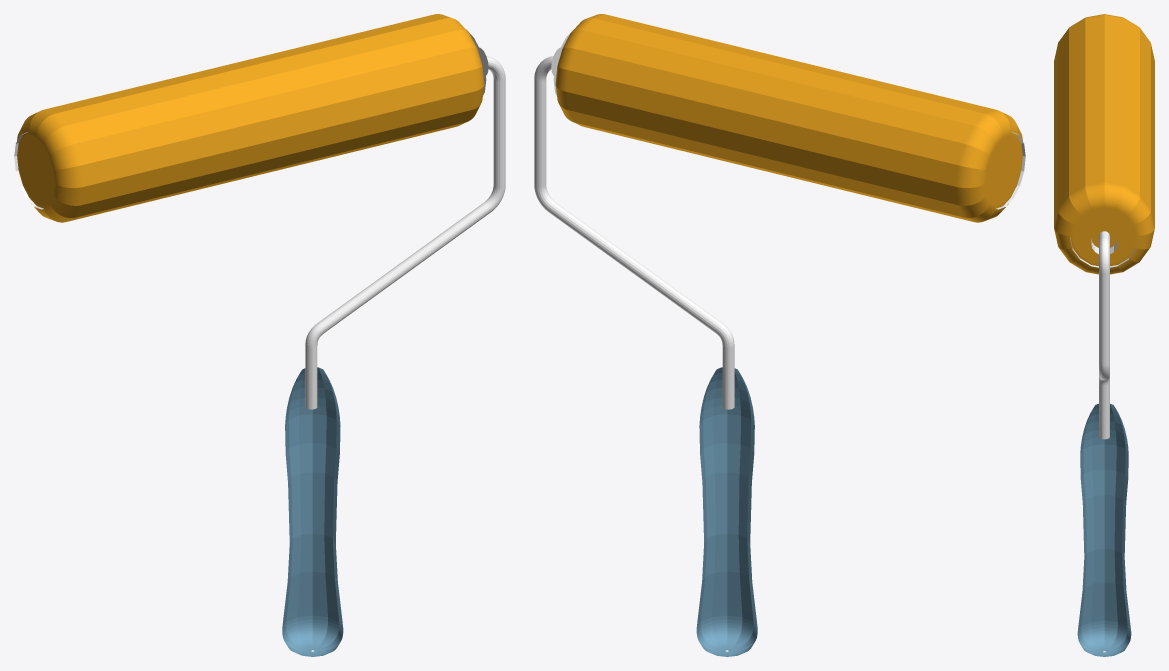
The model's file is d6395dfa-9569-4535-b3d1-4ee557bd3c94.glb.
3 renders of one model, left to right at view 1: azimuth 30°, elevation 25°; view 2: azimuth 150°, elevation 25°; view 3: azimuth 270°, elevation 25°, orthographic. The views are drawn at different scales.
Visible parts, largest first — view 1: Lathe.1, Lathe, wire_sweep; view 2: Lathe.1, Lathe, wire_sweep; view 3: Lathe.1, Lathe, wire_sweep, Lathe.2.
Part boxes in pixels (box(x1,y1,x2,y2)): Lathe.1: box(17, 14, 484, 222); Lathe: box(282, 367, 343, 656); wire_sweep: box(305, 56, 505, 409); Lathe.1: box(555, 14, 1022, 222); Lathe: box(696, 367, 757, 656); wire_sweep: box(534, 56, 734, 409); Lathe.1: box(1054, 14, 1154, 274); Lathe: box(1077, 403, 1131, 656); wire_sweep: box(1099, 231, 1109, 439); Lathe.2: box(1070, 237, 1138, 267).
Size of the model in its own units: 198 by 241 by 41.92.
